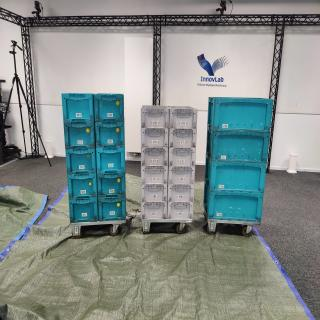Box8G: (142, 106, 171, 131), (170, 106, 199, 131), (169, 129, 198, 150), (169, 147, 198, 168), (141, 129, 169, 150), (168, 167, 197, 187), (168, 185, 196, 205), (141, 184, 169, 204), (141, 149, 169, 168), (168, 204, 195, 222), (142, 168, 169, 186), (142, 203, 169, 220)
BoxB4: (205, 156, 275, 194), (202, 185, 267, 224), (206, 97, 276, 133), (204, 130, 273, 166)
BoxB8: (62, 92, 96, 124), (63, 122, 97, 151), (94, 94, 125, 125), (96, 146, 127, 176), (98, 170, 129, 199), (97, 122, 126, 151), (69, 199, 100, 226), (68, 175, 98, 202), (66, 151, 97, 177), (99, 199, 129, 223)
